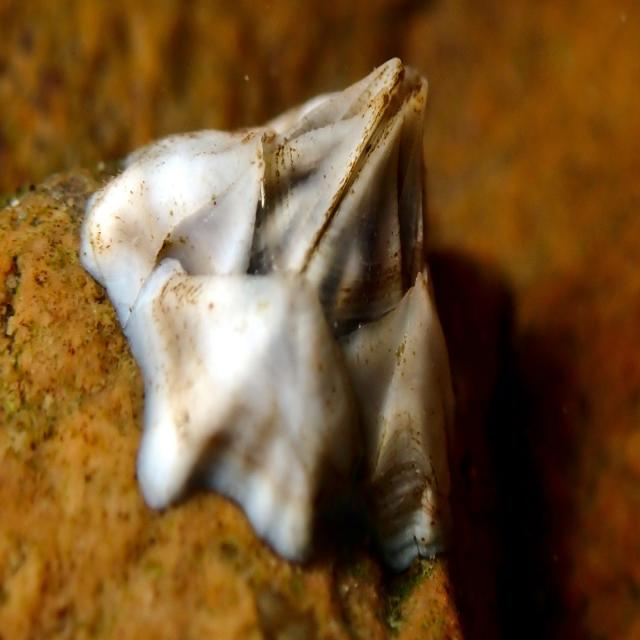barnacles: (74, 45, 476, 573)
